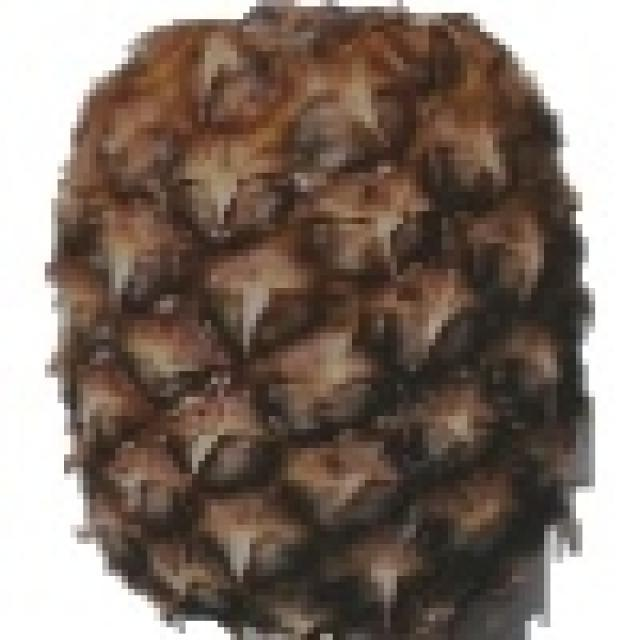pineapple: (45, 0, 576, 627)
